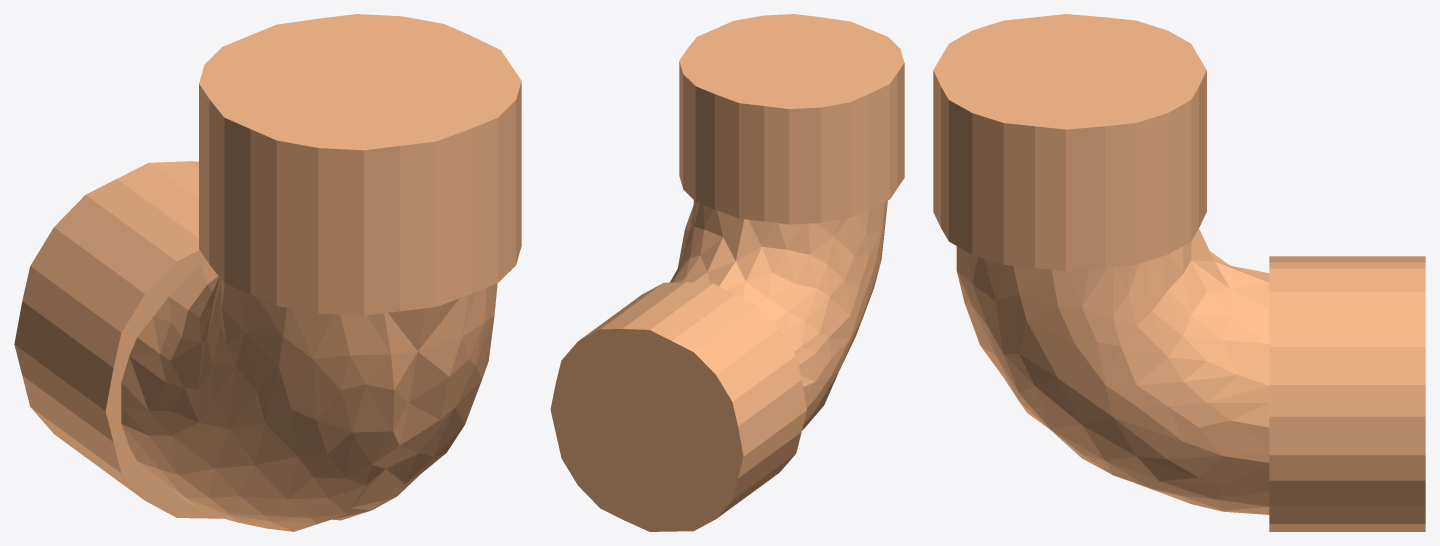
3 views of the same model, side by side, from view 1: azimuth 30°, elevation 25°; view 2: azimuth 150°, elevation 25°; view 3: azimuth 270°, elevation 25° (orthographic). The views are drawn at different scales.
Bounding box in the file's own units: 0.04 × 0.072 × 0.072.
